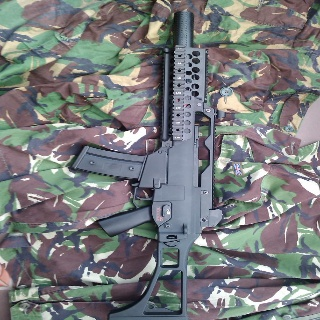rifle: (67, 10, 223, 320)
